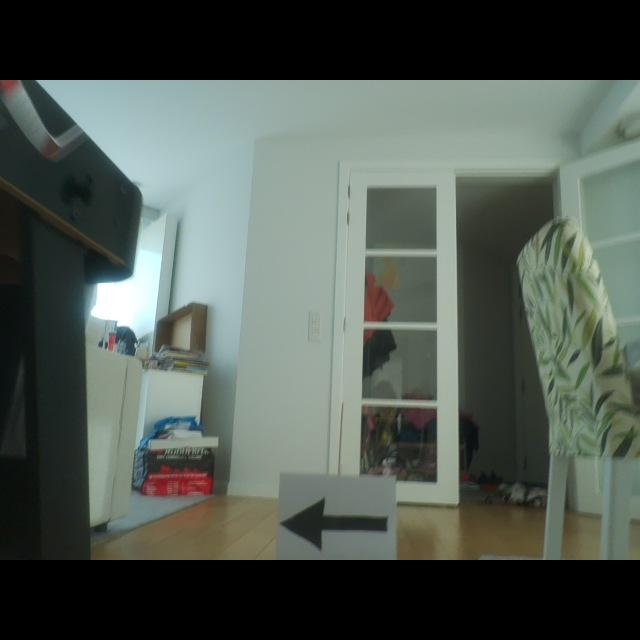balra_nyil: (282, 498, 387, 549)
